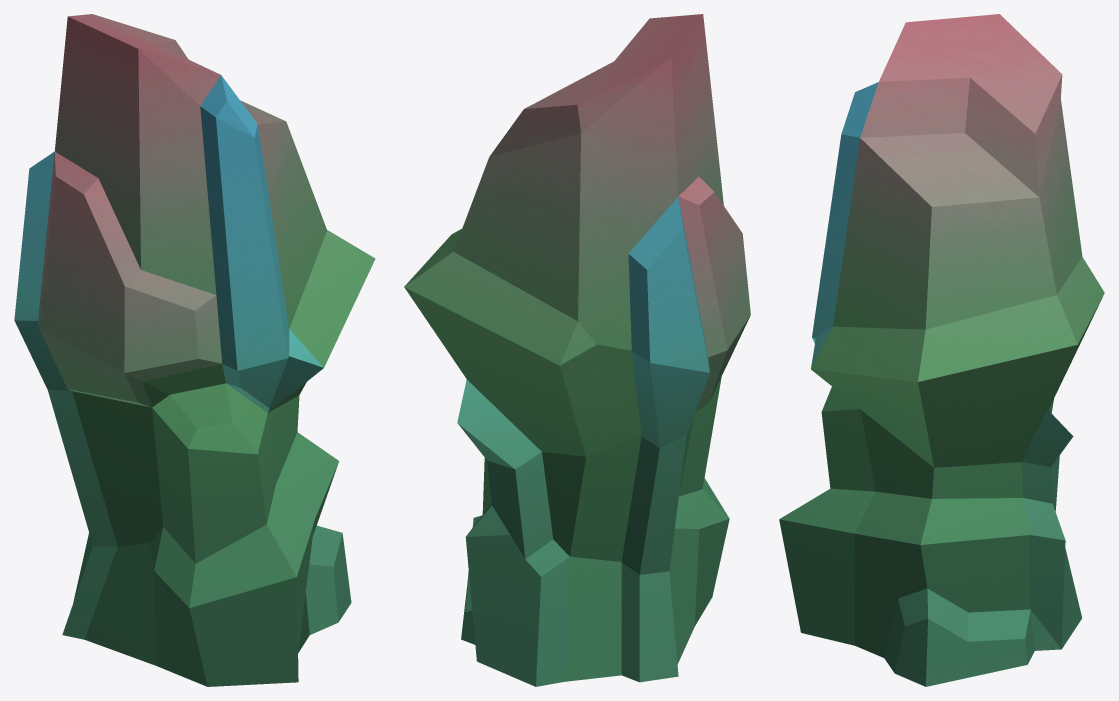
The model's file is Cliff_lush.FBX.
The picture shows the model from 3 angles, left to right: view 1: azimuth 30°, elevation 25°; view 2: azimuth 150°, elevation 25°; view 3: azimuth 270°, elevation 25°; orthographic projection. The views are drawn at different scales.
Parts seen in each view (by area): view 1: cliff_lush; view 2: cliff_lush; view 3: cliff_lush.
Boxes of the visible parts, left/top/right/bottom form: cliff_lush: left=14, top=14, right=375, bottom=686; cliff_lush: left=404, top=14, right=750, bottom=686; cliff_lush: left=779, top=14, right=1104, bottom=686.
Size of the model in its own units: 12.54 by 23.9 by 12.5.
